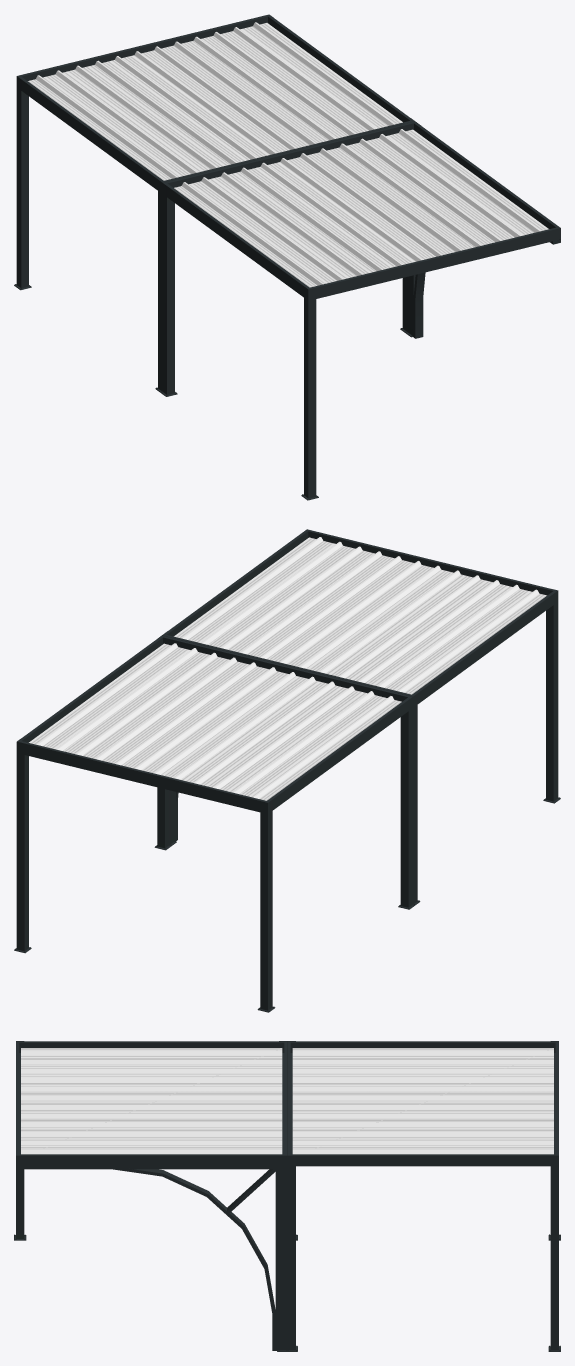
3 renders of one model, top to bottom at view 1: azimuth 30°, elevation 25°; view 2: azimuth 150°, elevation 25°; view 3: azimuth 270°, elevation 25°, orthographic. The views are drawn at different scales.
Parts seen in each view (by area): view 1: priximbattable_net_abris_de_voiture_13445_carport_avec_degag; view 2: priximbattable_net_abris_de_voiture_13445_carport_avec_degag; view 3: priximbattable_net_abris_de_voiture_13445_carport_avec_degag.
Part boxes in pixels (left/top/right/bottom): priximbattable_net_abris_de_voiture_13445_carport_avec_degag: left=14, top=14, right=560, bottom=500; priximbattable_net_abris_de_voiture_13445_carport_avec_degag: left=14, top=529, right=560, bottom=1012; priximbattable_net_abris_de_voiture_13445_carport_avec_degag: left=14, top=1041, right=560, bottom=1351.
Size of the model in its own units: 324 by 254 by 644.
1 material, 1 textured.
